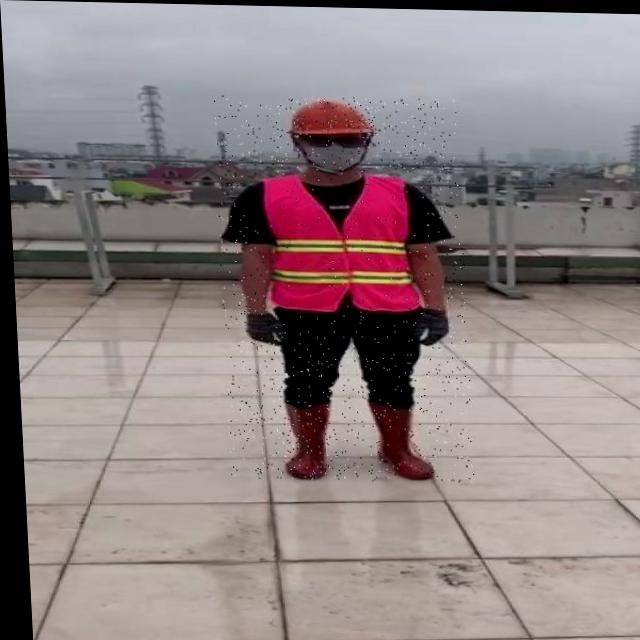Gloves: (408, 305, 446, 344), (241, 309, 277, 343)
Helmet: (285, 96, 374, 173)
Safety-Boot: (362, 397, 429, 478), (276, 396, 329, 478)
Safety-Vest: (257, 169, 418, 313)
